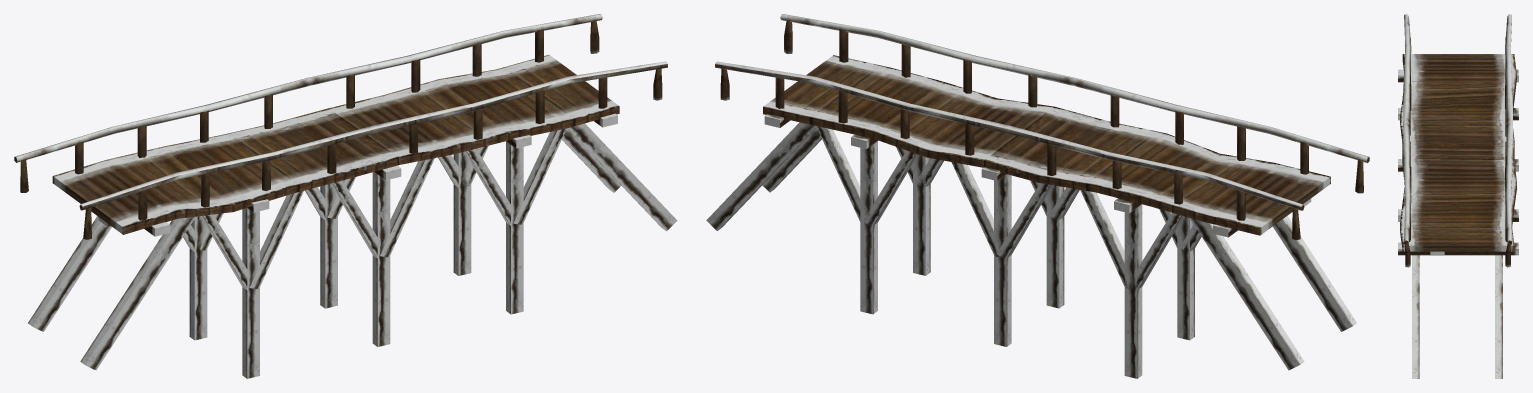
3 views of the same model, side by side, from view 1: azimuth 30°, elevation 25°; view 2: azimuth 150°, elevation 25°; view 3: azimuth 270°, elevation 25° (orthographic). The views are drawn at different scales.
Parts seen in each view (by area): view 1: Sphere01; view 2: Sphere01; view 3: Sphere01.
Boxes of the visible parts, x1,y1,x2,y2 form: Sphere01: (14,14,677,378); Sphere01: (706,14,1369,378); Sphere01: (1398,14,1518,378).
Bounding box in the file's own units: 23.79 × 8.56 × 5.24.
